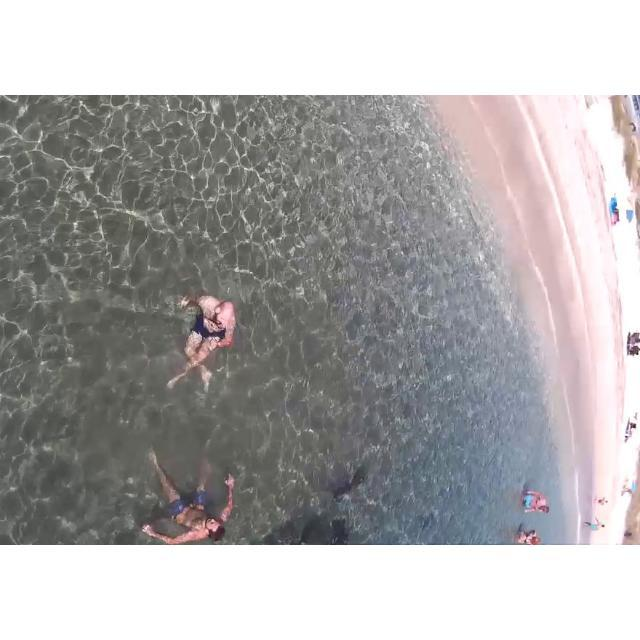human: (160, 272, 253, 396), (519, 484, 555, 524)
